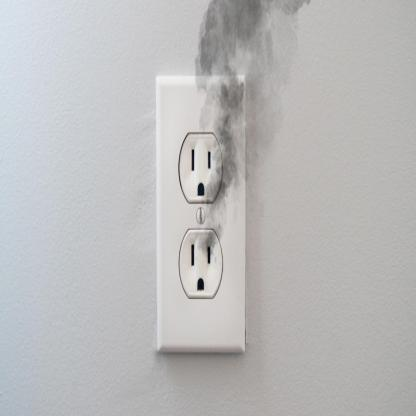smoke: (191, 1, 312, 216)
